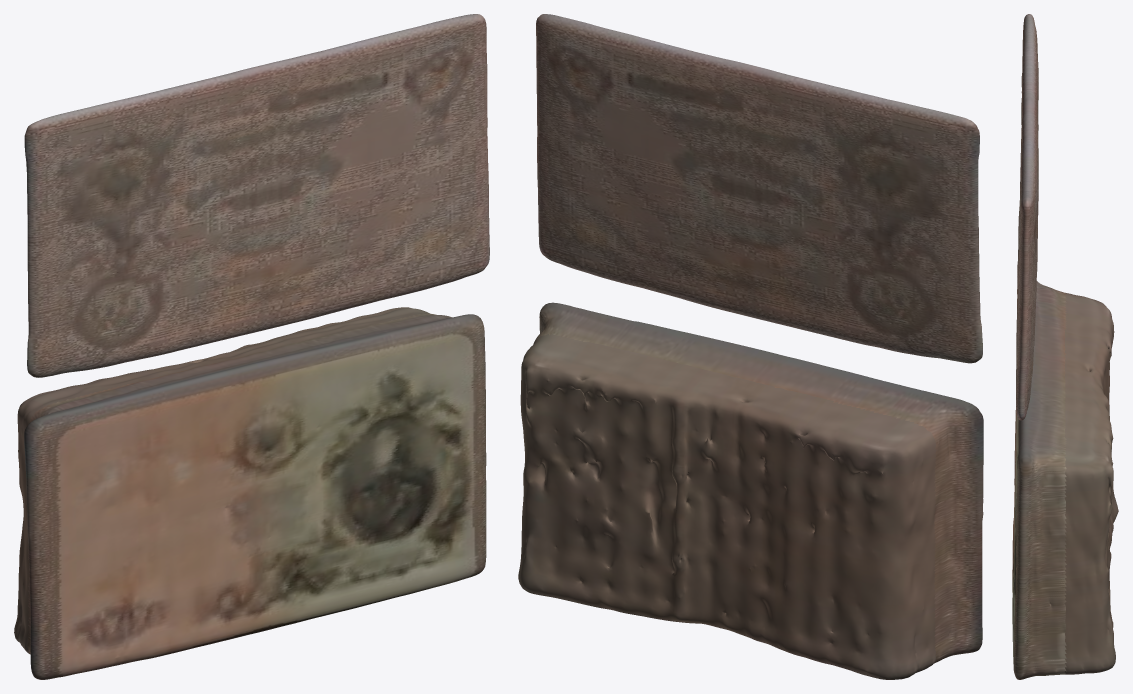
File: kfl-2275.glb
3 renders of one model, left to right at view 1: azimuth 30°, elevation 25°; view 2: azimuth 150°, elevation 25°; view 3: azimuth 270°, elevation 25°, orthographic. The views are drawn at different scales.
Parts seen in each view (by area): view 1: geometry_0; view 2: geometry_0; view 3: geometry_0.
Boxes of the visible parts, x1=… form: geometry_0: x1=14, y1=14, x2=489, y2=679; geometry_0: x1=518, y1=14, x2=983, y2=679; geometry_0: x1=1012, y1=14, x2=1118, y2=679.
Size of the model in its own units: 0.8572 by 0.9954 by 0.197.
1 material, 1 textured.
